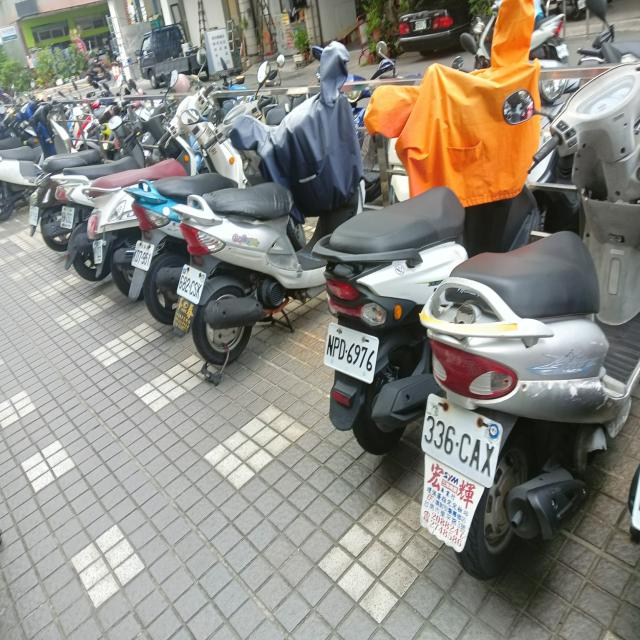license-plate: (424, 397, 501, 486), (325, 320, 380, 384), (178, 262, 206, 304), (129, 239, 154, 272)
